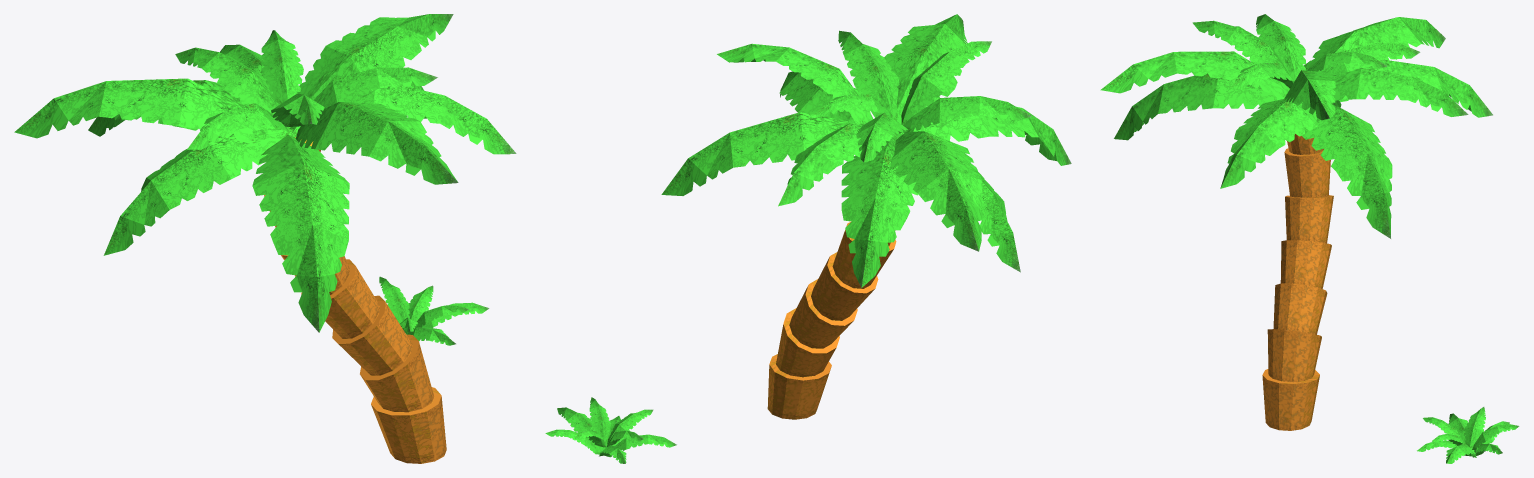
The picture shows the model from 3 angles, left to right: view 1: azimuth 30°, elevation 25°; view 2: azimuth 150°, elevation 25°; view 3: azimuth 270°, elevation 25°; orthographic projection. The views are drawn at different scales.
Parts seen in each view (by area): view 1: palma tronco.017, Foglia.249, Foglia.251, Foglia.250, Foglia.254, Foglia.253, Foglia.260, Foglia.262, Foglia.257, Foglia.255, Foglia.258, Foglia.248 (+3 smaller); view 2: palma tronco.017, Foglia.252, Foglia.251, Foglia.261, Foglia.254, Foglia.262, Foglia.249, Foglia.253, Foglia.259, Foglia.255, Foglia.256, Foglia.248 (+4 smaller); view 3: palma tronco.017, Foglia.261, Foglia.249, Foglia.260, Foglia.254, Foglia.259, Foglia.251, Foglia.262, Foglia.252, Foglia.253, Foglia.256, Foglia.248 (+3 smaller).
Part boxes in pixels (box(x1,y1,x2,y2)): palma tronco.017: box(264, 137, 446, 463); Foglia.249: box(252, 134, 349, 332); Foglia.251: box(14, 78, 276, 144); Foglia.250: box(103, 129, 293, 255); Foglia.254: box(296, 102, 458, 184); Foglia.253: box(297, 14, 453, 102); Foglia.260: box(350, 83, 516, 154); Foglia.262: box(379, 276, 489, 345); Foglia.257: box(175, 47, 278, 116); Foglia.255: box(313, 67, 437, 108); Foglia.258: box(261, 30, 303, 103); Foglia.248: box(187, 103, 288, 149); palma tronco.017: box(767, 221, 896, 419); Foglia.252: box(841, 137, 918, 287); Foglia.251: box(890, 131, 982, 251); Foglia.261: box(661, 112, 847, 195); Foglia.254: box(884, 14, 967, 131); Foglia.262: box(545, 397, 676, 463); Foglia.249: box(899, 107, 1071, 165); Foglia.253: box(717, 43, 873, 124); Foglia.259: box(778, 122, 897, 206); Foglia.255: box(838, 30, 899, 120); Foglia.256: box(901, 41, 991, 125); Foglia.248: box(903, 96, 1031, 131); palma tronco.017: box(1262, 134, 1333, 430); Foglia.261: box(1302, 105, 1392, 238); Foglia.249: box(1114, 73, 1290, 140); Foglia.260: box(1220, 98, 1317, 188); Foglia.254: box(1100, 51, 1289, 98); Foglia.259: box(1331, 67, 1468, 116); Foglia.251: box(1306, 17, 1445, 70); Foglia.262: box(1417, 407, 1519, 463); Foglia.252: box(1331, 59, 1492, 117); Foglia.253: box(1284, 70, 1336, 120); Foglia.256: box(1192, 20, 1289, 75); Foglia.248: box(1256, 14, 1305, 81).
Bounding box in the file's own units: 403 × 340 × 380.
Materials: 2 (2 with a texture image).
